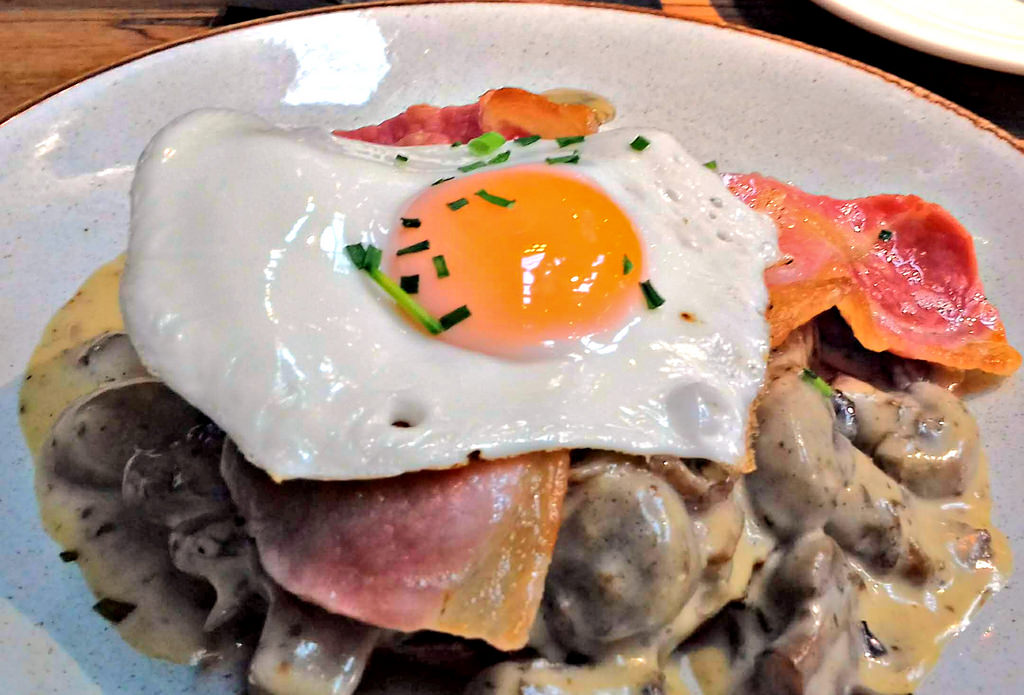fried egg: (127, 105, 767, 471)
